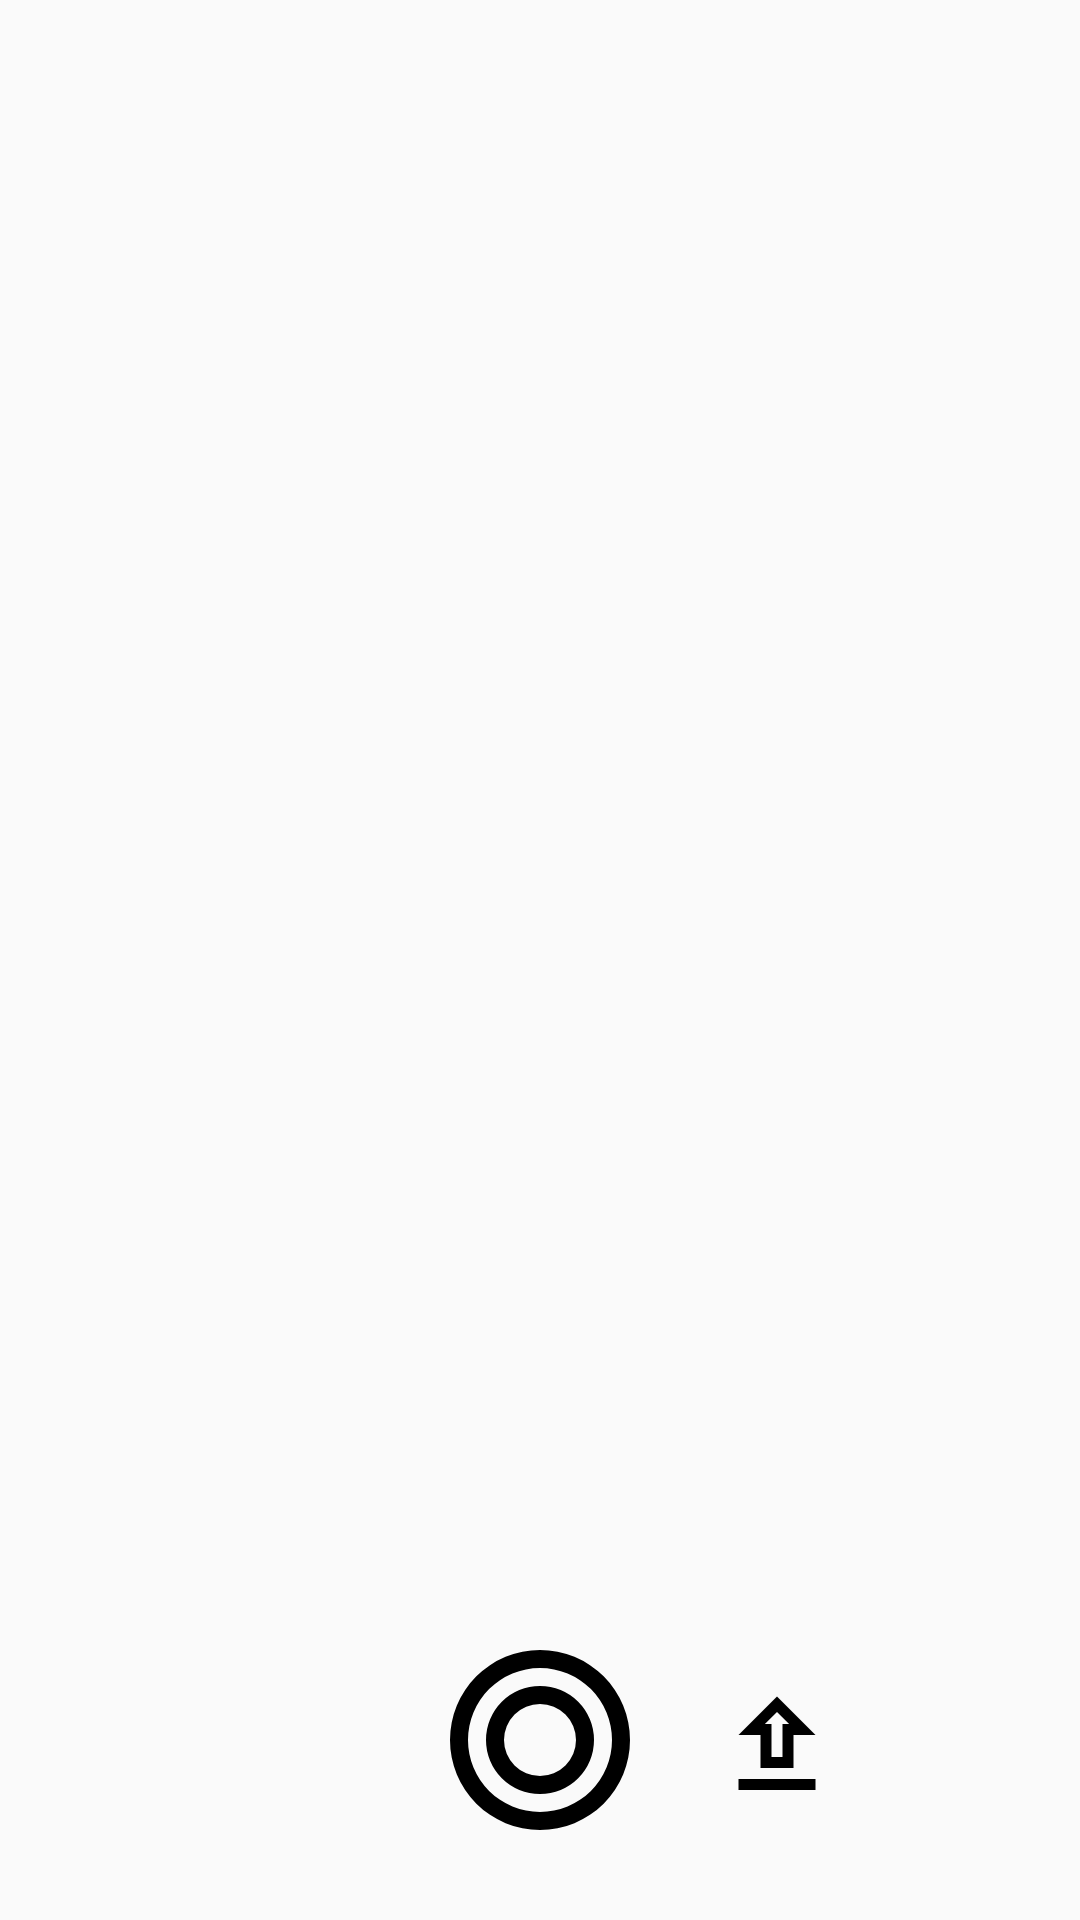

Point at icon controls on the screen. Image size 1080px×1920px, points as point (x, y).
camera upload: point (777, 1743)
